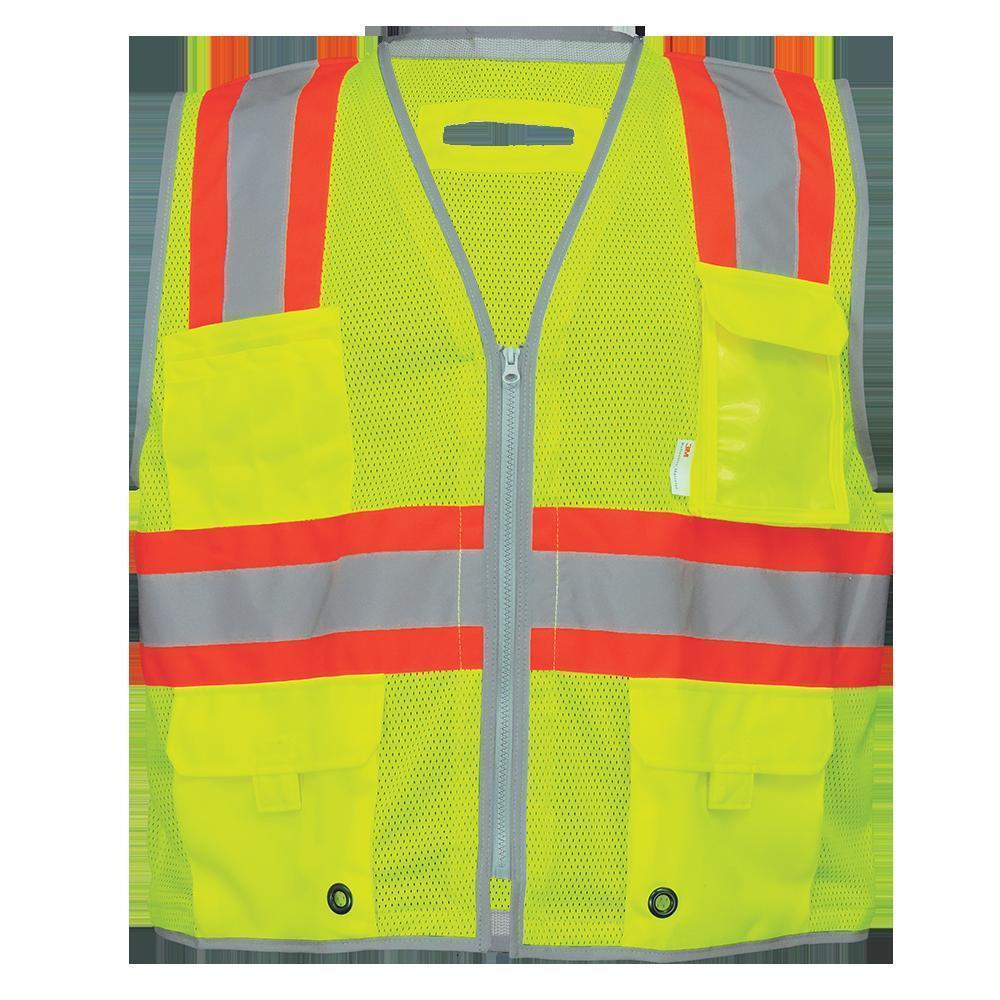Glass: (14, 30, 926, 966)
